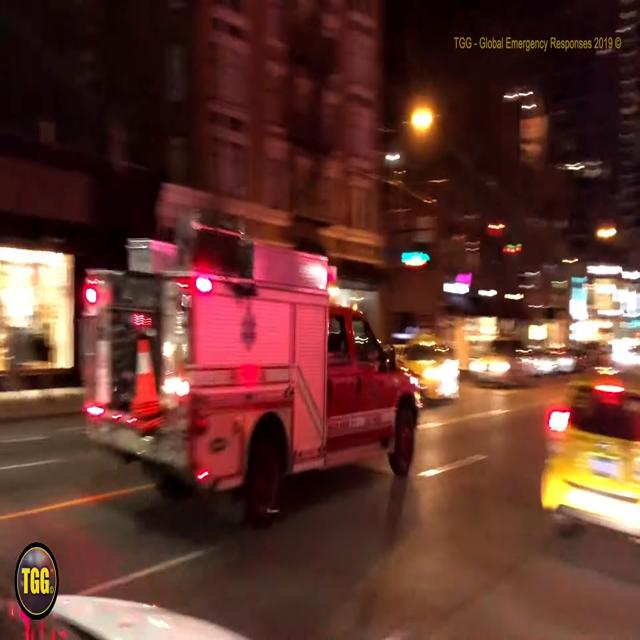emergency-vehicles: (64, 207, 427, 552)
